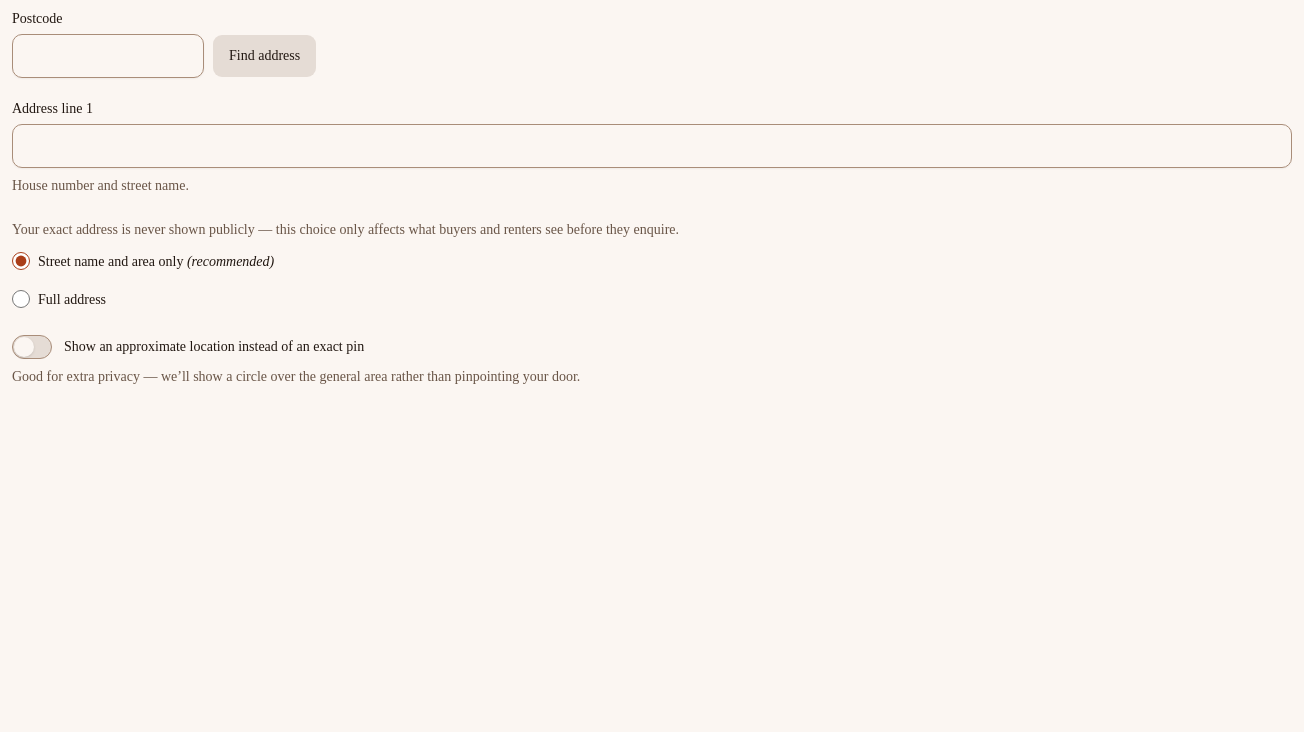
Scenario: StepAddress › unknown postcode: shows the exact spec error and reveals an editable Town fallback
Type "ZZ99 9ZZ" into the field labelled "Postcode" at (108, 56), box [12,34,204,78]
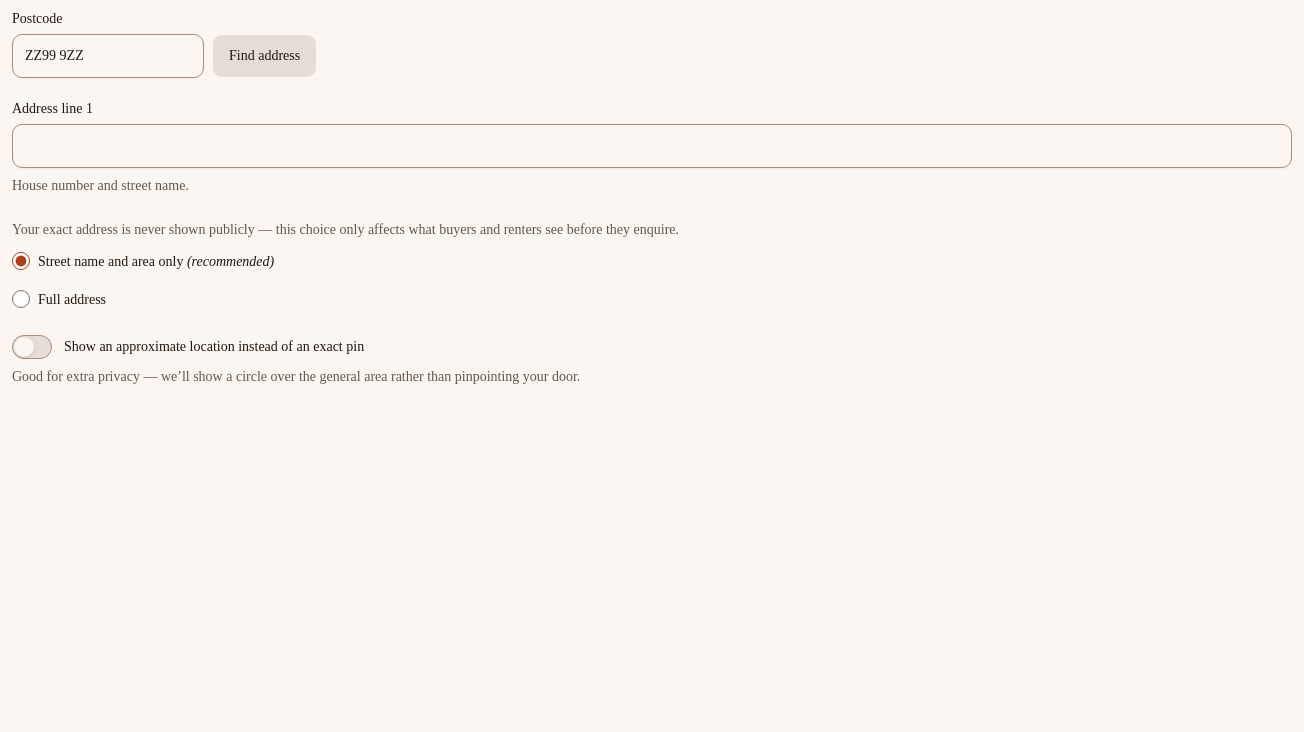
Click the button "Find address" at (265, 56), box [212,34,317,78]
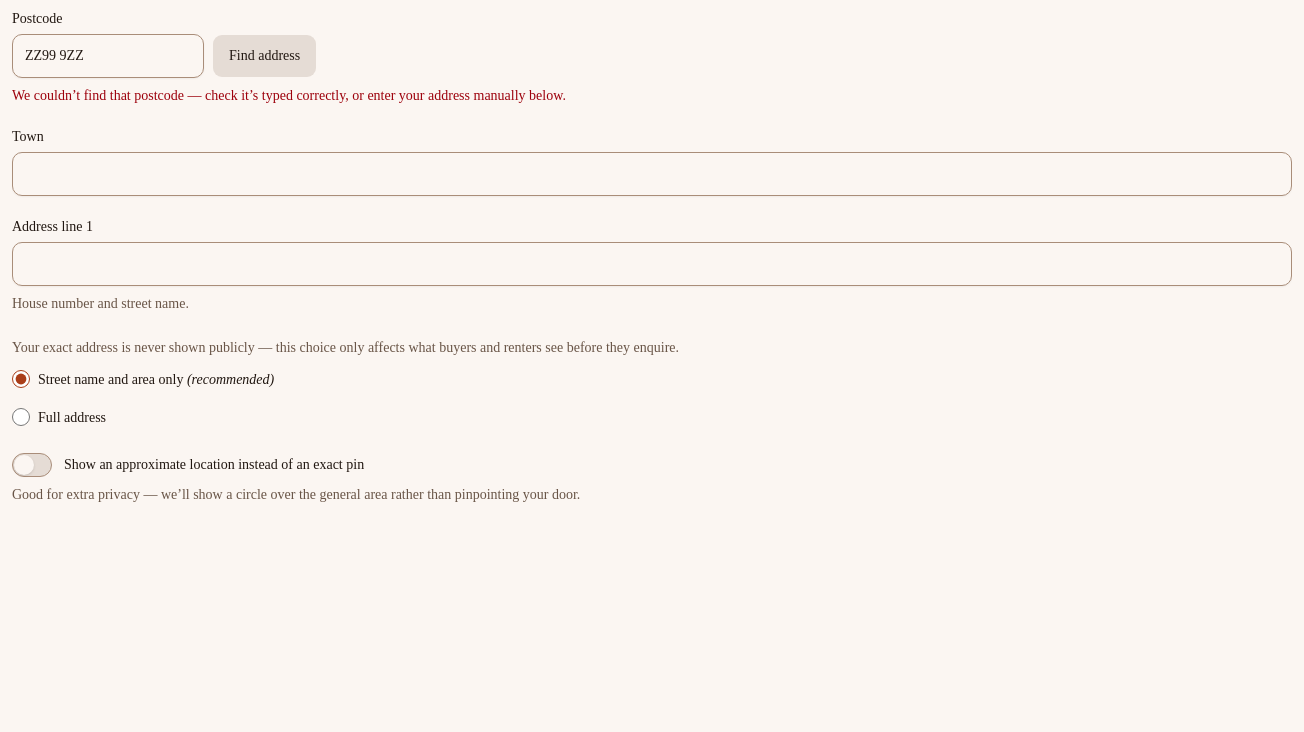
Expected: the text "We couldn’t find that postcode — check it’s typed correctly, or enter your address manually below." is shown, [12,88,566,103]
Expected: the field labelled "Town" is shown, [12,152,1292,196]
